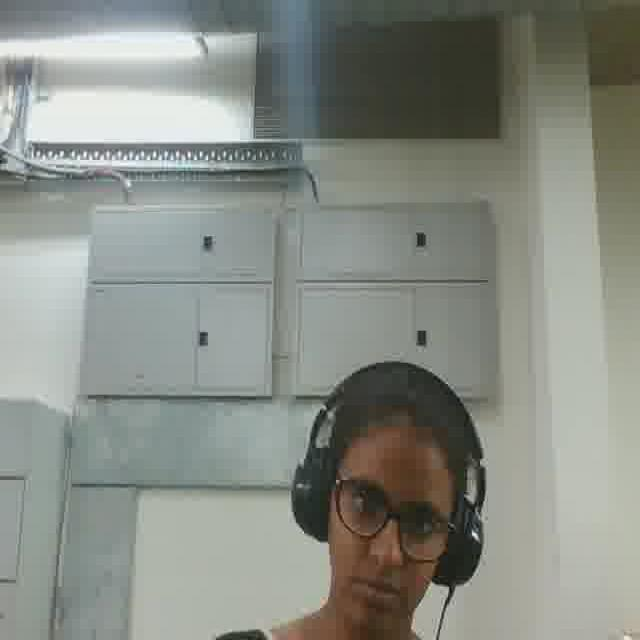Frustration: (324, 431, 447, 638)
